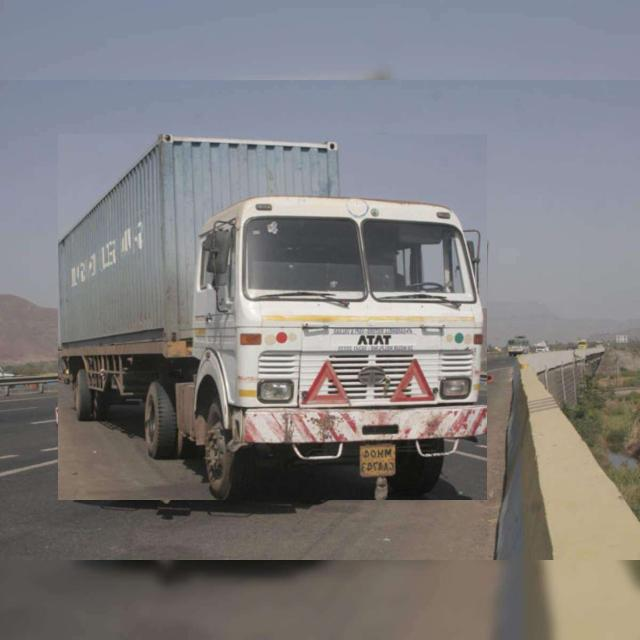truck: (59, 135, 487, 500)
